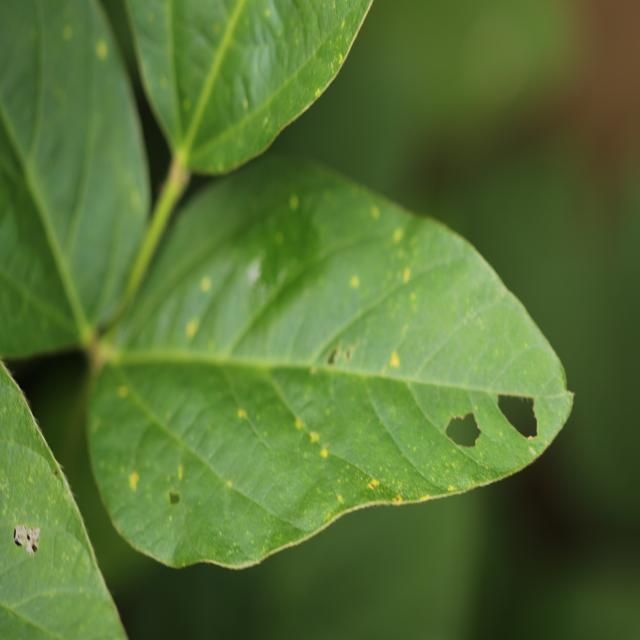Soybean: (0, 0, 576, 573)
downey_mildew: (204, 368, 354, 541), (259, 258, 398, 417), (227, 205, 371, 354), (360, 374, 509, 500), (308, 248, 445, 370), (102, 164, 192, 336), (398, 275, 532, 385), (160, 3, 253, 159), (0, 0, 69, 208), (50, 22, 106, 262), (270, 4, 373, 122), (153, 238, 260, 346), (310, 321, 419, 420), (0, 232, 81, 356), (124, 414, 192, 522), (507, 387, 578, 468), (230, 383, 293, 470), (5, 585, 111, 631), (1, 362, 46, 460), (1, 438, 55, 509), (179, 540, 273, 570), (164, 1, 182, 141), (0, 545, 45, 588), (220, 476, 238, 560), (283, 0, 315, 46)
